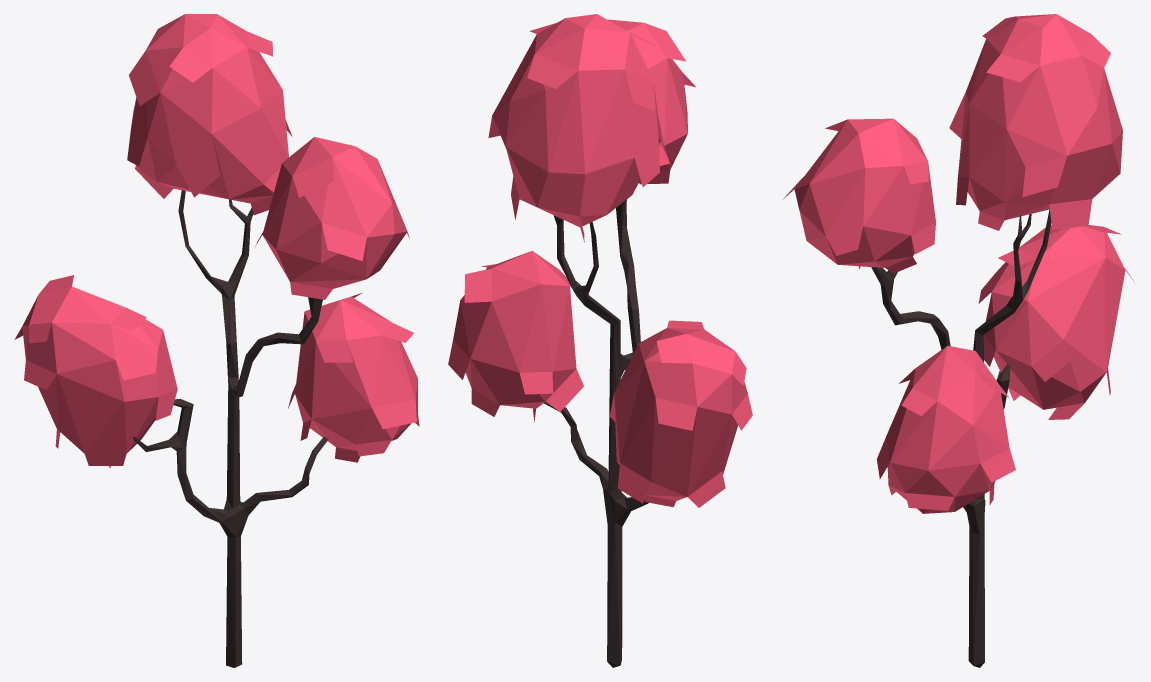
Rendered from Tree_Forest_Pink_04.glb.
3 views of the same model, side by side, from view 1: azimuth 30°, elevation 25°; view 2: azimuth 150°, elevation 25°; view 3: azimuth 270°, elevation 25° (orthographic). The views are drawn at different scales.
Visible parts, largest first — view 1: Tree_Forest_Pink_04; view 2: Tree_Forest_Pink_04; view 3: Tree_Forest_Pink_04.
Part boxes in pixels (<box>): Tree_Forest_Pink_04: <box>14,14,419,667</box>; Tree_Forest_Pink_04: <box>448,14,752,667</box>; Tree_Forest_Pink_04: <box>782,14,1134,667</box>.
Size of what is drawn, in the model's own units: 5.94 by 11.01 by 5.47.
Materials: 1 (1 with a texture image).
